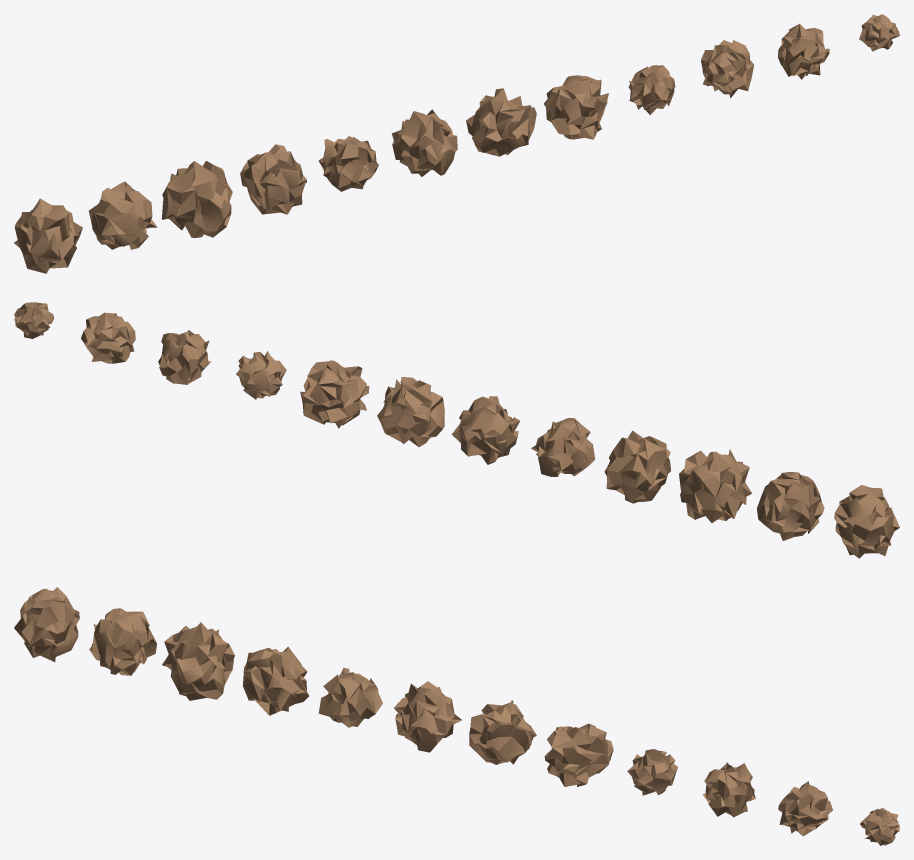
The model's file is Ore_Rocks_For_Belt.fbx.
3 renders of one model, top to bottom at view 1: azimuth 30°, elevation 25°; view 2: azimuth 150°, elevation 25°; view 3: azimuth 330°, elevation 25°, orthographic.
Visible parts, largest first — view 1: Ore_Rock_02, Ore_Rock_00, Ore_Rock_03, Ore_Rock_06, Ore_Rock_01, Ore_Rock_05, Ore_Rock_07, Ore_Rock_04, Ore_Rock_09, Ore_Rock_10, Ore_Rock_08, Ore_Rock_11; view 2: Ore_Rock_02, Ore_Rock_03, Ore_Rock_06, Ore_Rock_07, Ore_Rock_00, Ore_Rock_01, Ore_Rock_05, Ore_Rock_04, Ore_Rock_09, Ore_Rock_10, Ore_Rock_08, Ore_Rock_11; view 3: Ore_Rock_02, Ore_Rock_00, Ore_Rock_03, Ore_Rock_01, Ore_Rock_07, Ore_Rock_05, Ore_Rock_06, Ore_Rock_04, Ore_Rock_09, Ore_Rock_10, Ore_Rock_08, Ore_Rock_11.
Part boxes in pixels (x1=…): Ore_Rock_02: x1=161, y1=161, x2=232, y2=237; Ore_Rock_00: x1=14, y1=198, x2=82, y2=273; Ore_Rock_03: x1=240, y1=144, x2=306, y2=214; Ore_Rock_06: x1=466, y1=88, x2=536, y2=156; Ore_Rock_01: x1=88, y1=181, x2=157, y2=249; Ore_Rock_05: x1=391, y1=109, x2=457, y2=176; Ore_Rock_07: x1=544, y1=75, x2=608, y2=139; Ore_Rock_04: x1=318, y1=136, x2=378, y2=191; Ore_Rock_09: x1=701, y1=40, x2=753, y2=98; Ore_Rock_10: x1=778, y1=23, x2=829, y2=79; Ore_Rock_08: x1=628, y1=65, x2=675, y2=114; Ore_Rock_11: x1=859, y1=14, x2=899, y2=51; Ore_Rock_02: x1=679, y1=449, x2=751, y2=522; Ore_Rock_03: x1=604, y1=430, x2=671, y2=503; Ore_Rock_06: x1=377, y1=377, x2=444, y2=447; Ore_Rock_07: x1=300, y1=360, x2=369, y2=428; Ore_Rock_00: x1=834, y1=485, x2=899, y2=558; Ore_Rock_01: x1=757, y1=472, x2=824, y2=540; Ore_Rock_05: x1=452, y1=396, x2=519, y2=464; Ore_Rock_04: x1=531, y1=418, x2=595, y2=476; Ore_Rock_09: x1=158, y1=330, x2=210, y2=384; Ore_Rock_10: x1=81, y1=312, x2=135, y2=363; Ore_Rock_08: x1=236, y1=351, x2=286, y2=399; Ore_Rock_11: x1=14, y1=302, x2=53, y2=338; Ore_Rock_02: x1=162, y1=622, x2=234, y2=700; Ore_Rock_00: x1=14, y1=587, x2=79, y2=661; Ore_Rock_03: x1=242, y1=646, x2=309, y2=715; Ore_Rock_01: x1=89, y1=608, x2=156, y2=675; Ore_Rock_07: x1=544, y1=723, x2=613, y2=786; Ore_Rock_05: x1=394, y1=681, x2=461, y2=752; Ore_Rock_06: x1=469, y1=700, x2=536, y2=764; Ore_Rock_04: x1=318, y1=667, x2=382, y2=727; Ore_Rock_09: x1=703, y1=762, x2=755, y2=817; Ore_Rock_10: x1=778, y1=781, x2=832, y2=836; Ore_Rock_08: x1=627, y1=749, x2=677, y2=795; Ore_Rock_11: x1=860, y1=808, x2=899, y2=845.
Size of the model in its own units: 11.58 by 0.8935 by 0.8638.
